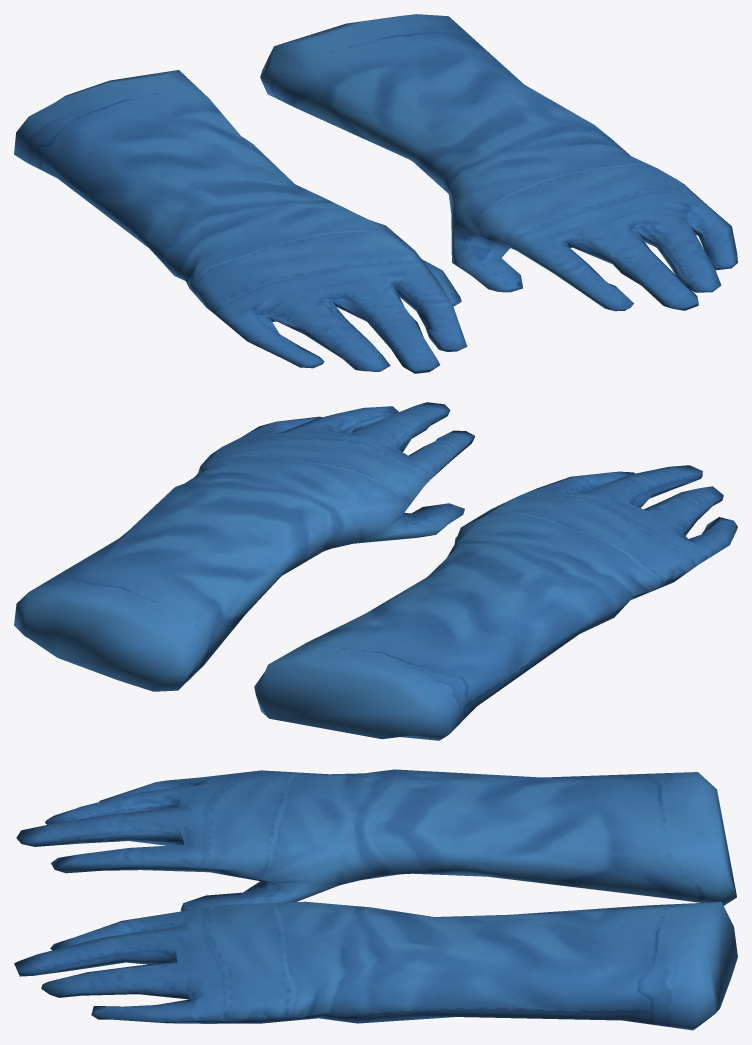
File: DentistGloves_Ground.fbx
3 renders of one model, top to bottom at view 1: azimuth 30°, elevation 25°; view 2: azimuth 150°, elevation 25°; view 3: azimuth 270°, elevation 25°, orthographic. The views are drawn at different scales.
Parts seen in each view (by area): view 1: DentistGloves; view 2: DentistGloves; view 3: DentistGloves.
Part boxes in pixels (x1,y1,x2,y2): DentistGloves: (14, 14, 737, 373); DentistGloves: (14, 402, 737, 740); DentistGloves: (14, 769, 737, 1030).
Bounding box in the file's own units: 0.1854 × 0.0237 × 0.2337.
